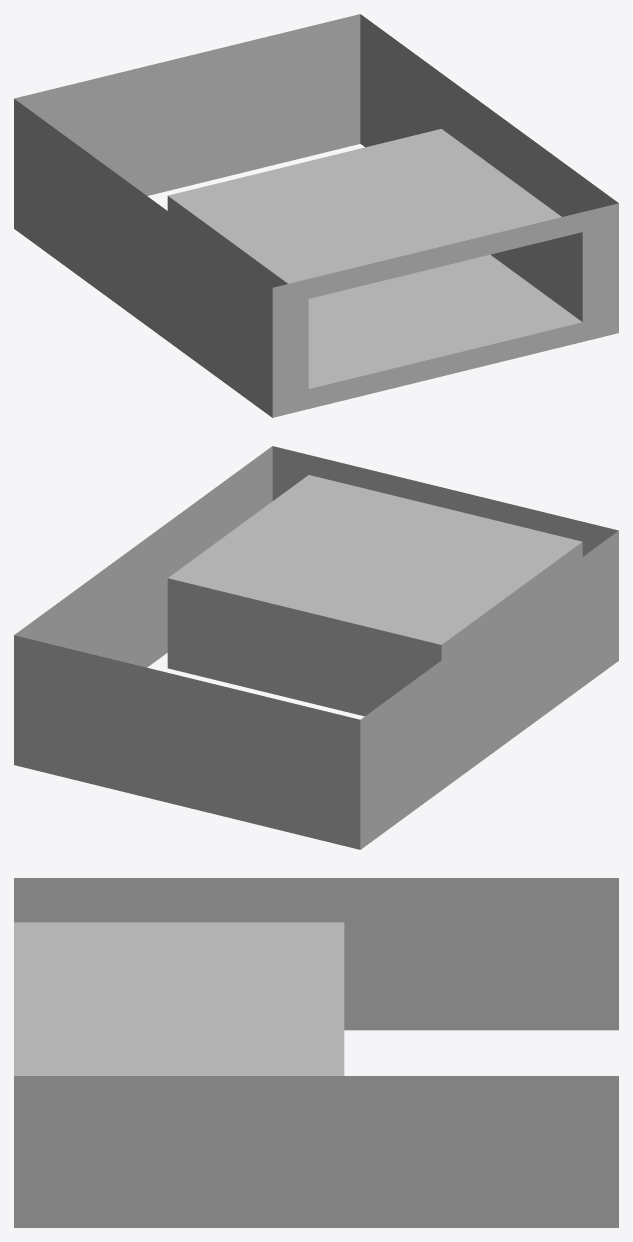
The model's file is Itr_Desk_Drawer_Middle_06.FBX.
The picture shows the model from 3 angles, top to bottom: view 1: azimuth 30°, elevation 25°; view 2: azimuth 150°, elevation 25°; view 3: azimuth 270°, elevation 25°; orthographic projection. The views are drawn at different scales.
Visible parts, largest first — view 1: Itr_Desk_Drawer_Middle_06; view 2: Itr_Desk_Drawer_Middle_06; view 3: Itr_Desk_Drawer_Middle_06.
Part boxes in pixels (bbox=[...]): Itr_Desk_Drawer_Middle_06: bbox=[14, 14, 618, 417]; Itr_Desk_Drawer_Middle_06: bbox=[14, 446, 618, 849]; Itr_Desk_Drawer_Middle_06: bbox=[14, 878, 618, 1227].
Size of the model in its own units: 18.22 by 6.54 by 23.55.
